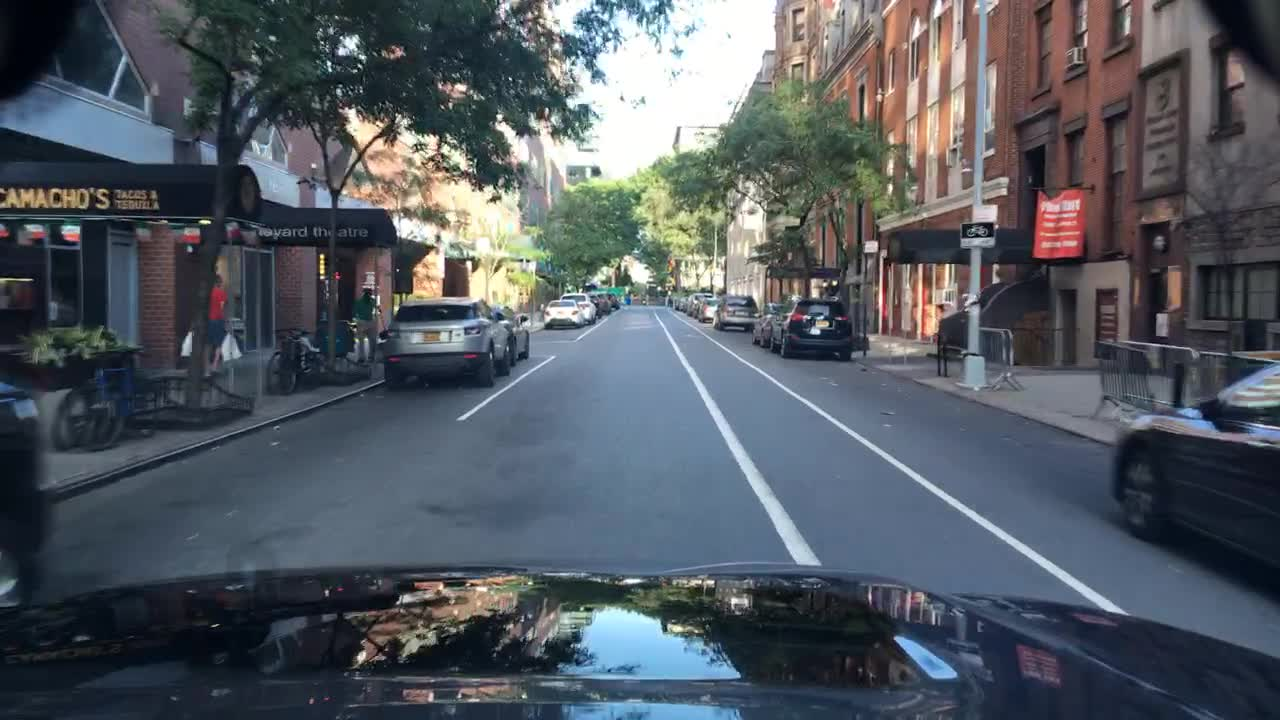bike: (57, 345, 162, 449), (263, 325, 326, 390)
car: (1112, 359, 1278, 570), (0, 383, 56, 607), (382, 296, 511, 389), (772, 296, 856, 360), (749, 299, 791, 350), (496, 308, 532, 362), (712, 295, 758, 335), (541, 299, 583, 329), (556, 292, 595, 324), (582, 287, 610, 317), (686, 292, 713, 320), (697, 296, 721, 326), (604, 289, 621, 311), (673, 293, 688, 314), (664, 290, 677, 308), (639, 294, 656, 304), (630, 295, 642, 307)
person: (177, 275, 239, 380), (351, 284, 381, 365)
traffic light: (332, 264, 343, 280), (666, 256, 674, 270)
traffic sign: (959, 221, 995, 247), (970, 206, 996, 224), (862, 239, 878, 253)
